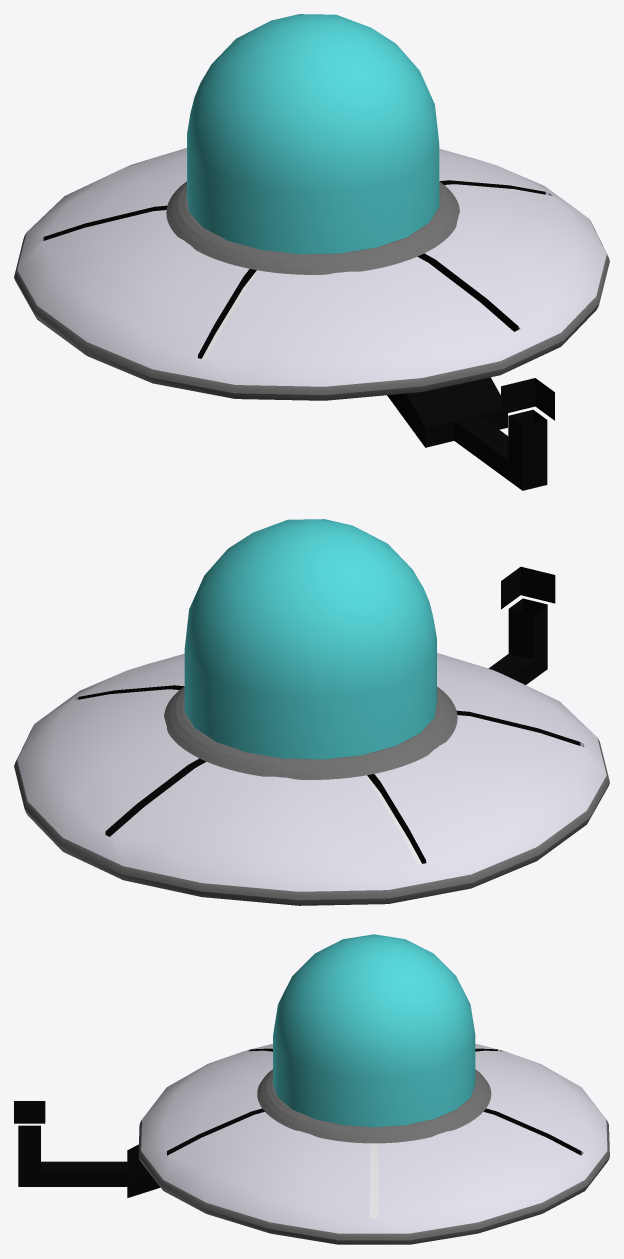
The model's file is Spaceship.dae.
3 views of the same model, one above another, from view 1: azimuth 30°, elevation 25°; view 2: azimuth 150°, elevation 25°; view 3: azimuth 270°, elevation 25° (orthographic). The views are drawn at different scales.
Visible parts, largest first — view 1: Body, Dome, TowRig; view 2: Body, Dome, TowRig; view 3: Body, Dome, TowRig.
Part boxes in pixels (x1,y1,x2,y2): Body: [14, 148, 609, 400]; Dome: [187, 14, 439, 254]; TowRig: [387, 377, 554, 490]; Body: [14, 653, 609, 905]; Dome: [184, 519, 436, 759]; TowRig: [488, 566, 555, 684]; Body: [138, 1043, 609, 1244]; Dome: [273, 934, 475, 1127]; TowRig: [14, 1101, 160, 1197].
Bounding box in the file's own units: 1.39 × 1.76 × 0.7802.
